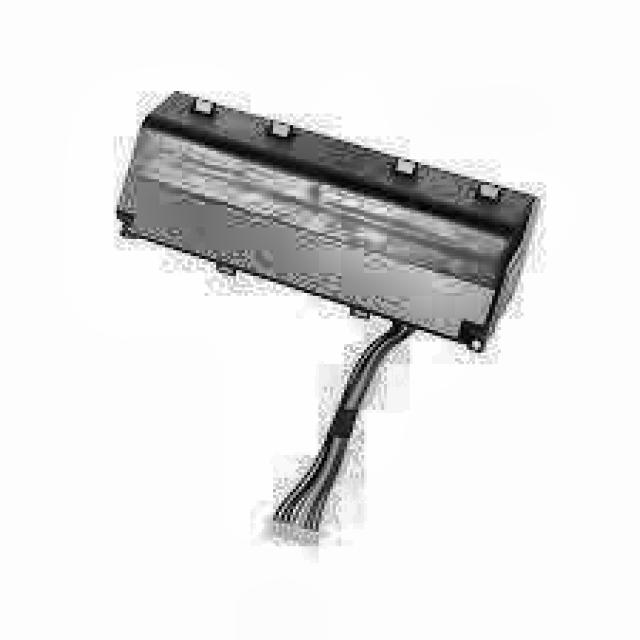Battery: (122, 88, 538, 344)
